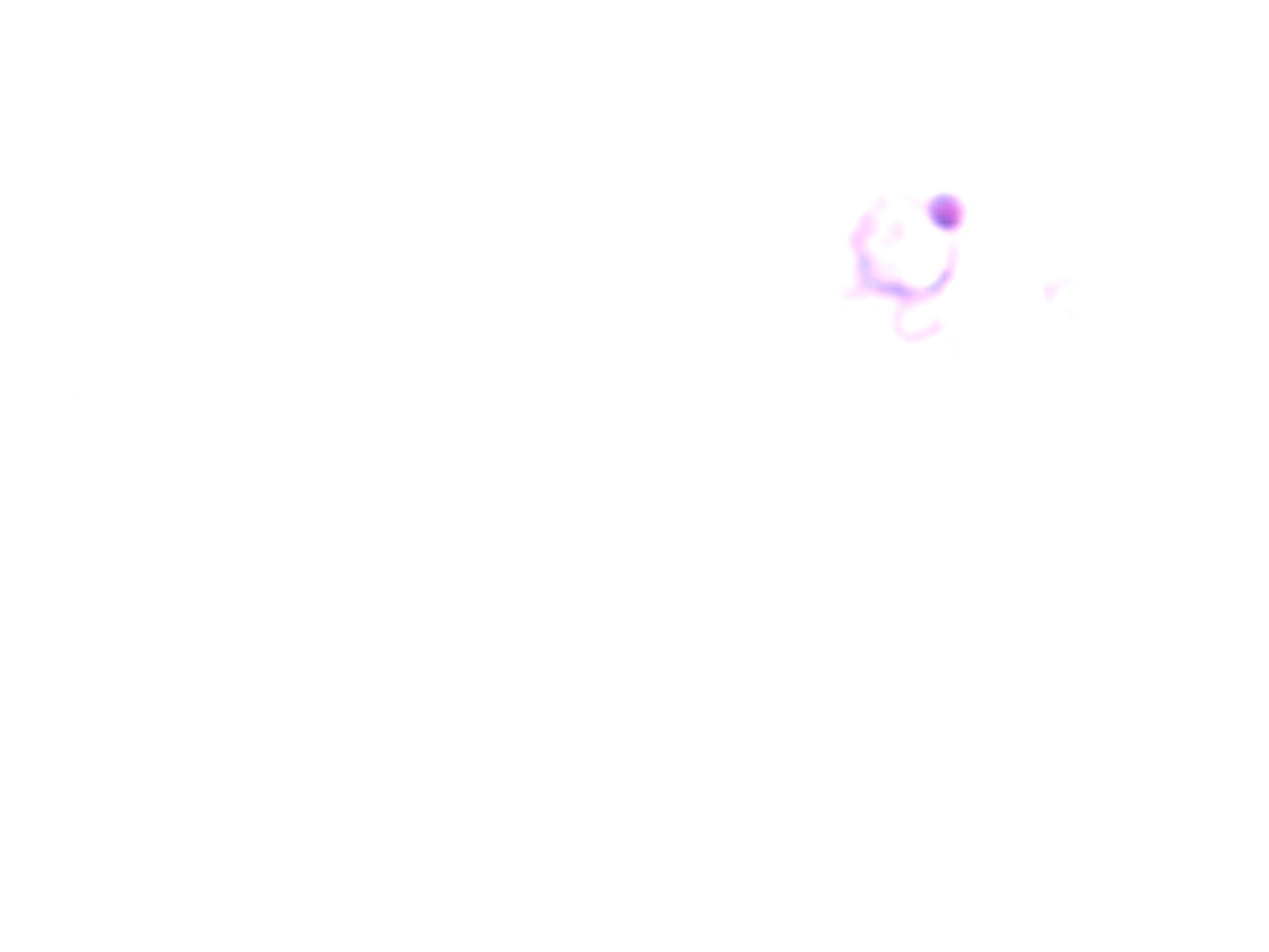Infected: (837, 181, 978, 342)
